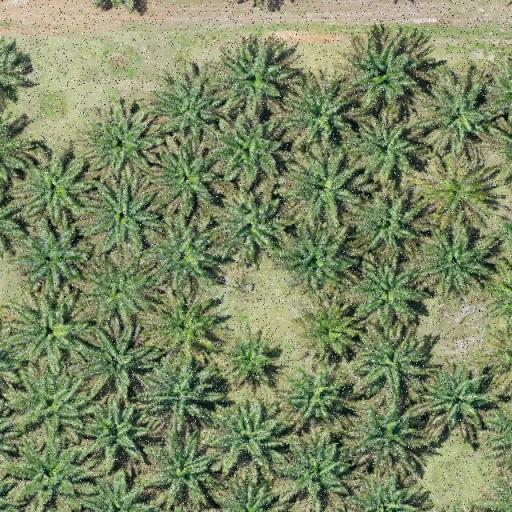Ganoderma: (434, 172, 478, 214)
